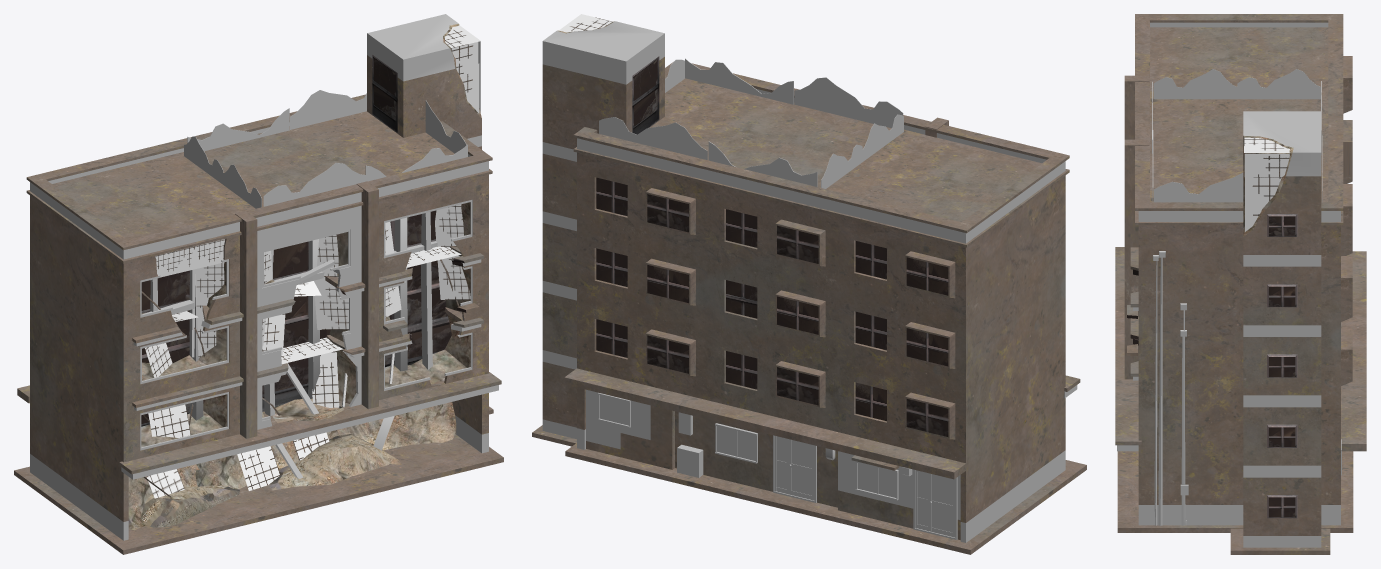
The model's file is gmallbil_3x4_2_In_b.fbx.
The picture shows the model from 3 angles, left to right: view 1: azimuth 30°, elevation 25°; view 2: azimuth 150°, elevation 25°; view 3: azimuth 270°, elevation 25°; orthographic projection. The views are drawn at different scales.
Visible parts, largest first — view 1: gmallbil_3x4_2_In_b, gmallbil_8x4_2fgareki, gmallbil_8x4_1fgareki; view 2: gmallbil_3x4_2_In_b; view 3: gmallbil_3x4_2_In_b.
Boxes of the visible parts, bbox=[...] form: gmallbil_3x4_2_In_b: bbox=[14, 14, 503, 554]; gmallbil_8x4_2fgareki: bbox=[141, 204, 470, 437]; gmallbil_8x4_1fgareki: bbox=[128, 402, 456, 530]; gmallbil_3x4_2_In_b: bbox=[532, 14, 1086, 554]; gmallbil_3x4_2_In_b: bbox=[1115, 14, 1366, 554].
Size of the model in its own units: 1979 by 1656 by 945.
